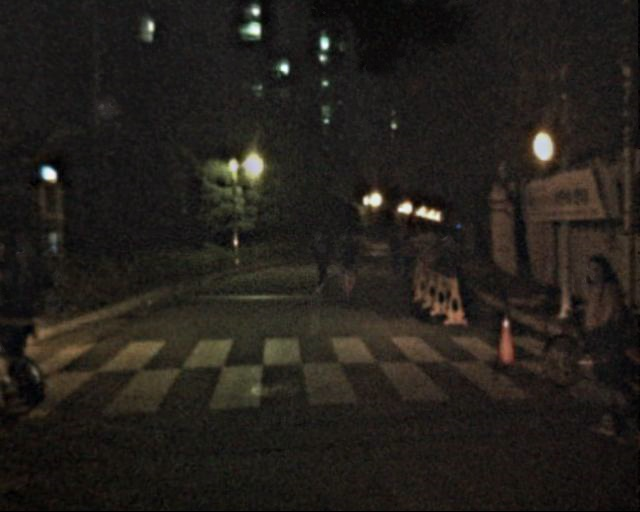person: (560, 256, 638, 434), (305, 229, 333, 297), (332, 232, 359, 297), (383, 229, 407, 287), (396, 235, 416, 283)
